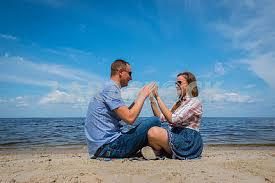without_mask: (109, 57, 137, 88), (175, 71, 204, 100)
